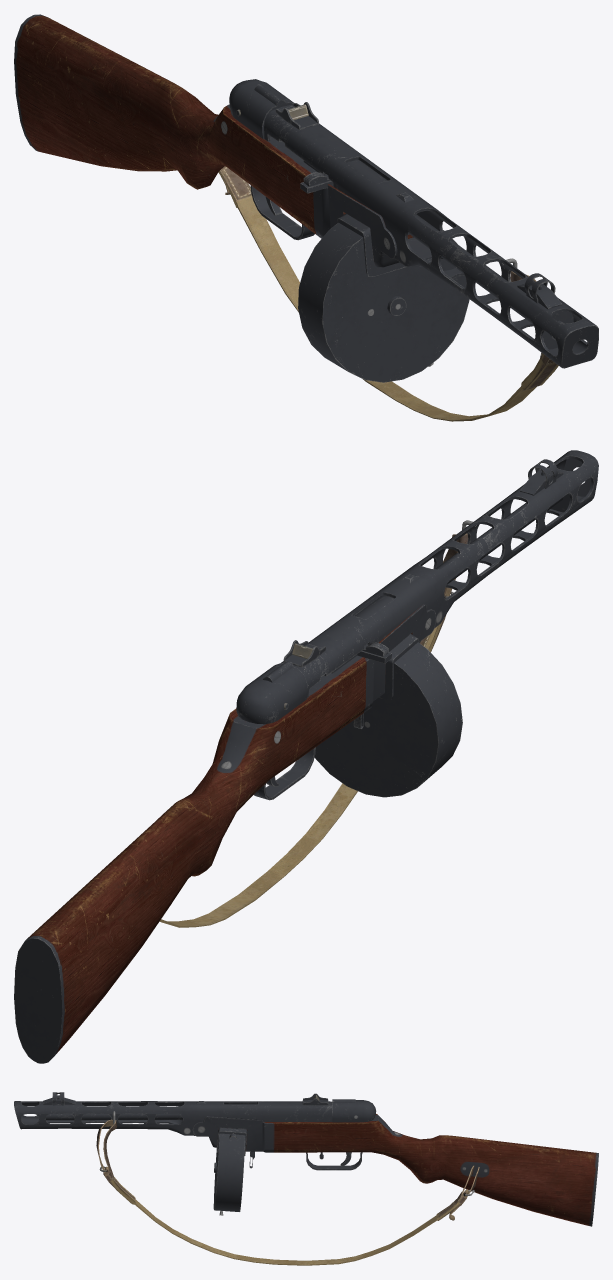
3 views of the same model, one above another, from view 1: azimuth 30°, elevation 25°; view 2: azimuth 150°, elevation 25°; view 3: azimuth 270°, elevation 25° (orthographic). The views are drawn at different scales.
Visible parts, largest first — view 1: ppsh; view 2: ppsh; view 3: ppsh.
Boxes of the visible parts, x1,y1,x2,y2 form: ppsh: (14, 14, 598, 421); ppsh: (14, 450, 598, 1063); ppsh: (14, 1092, 598, 1265).
Bounding box in the file's own units: 0.1112 × 0.2085 × 0.7209.
Materials: 1 (1 with a texture image).
